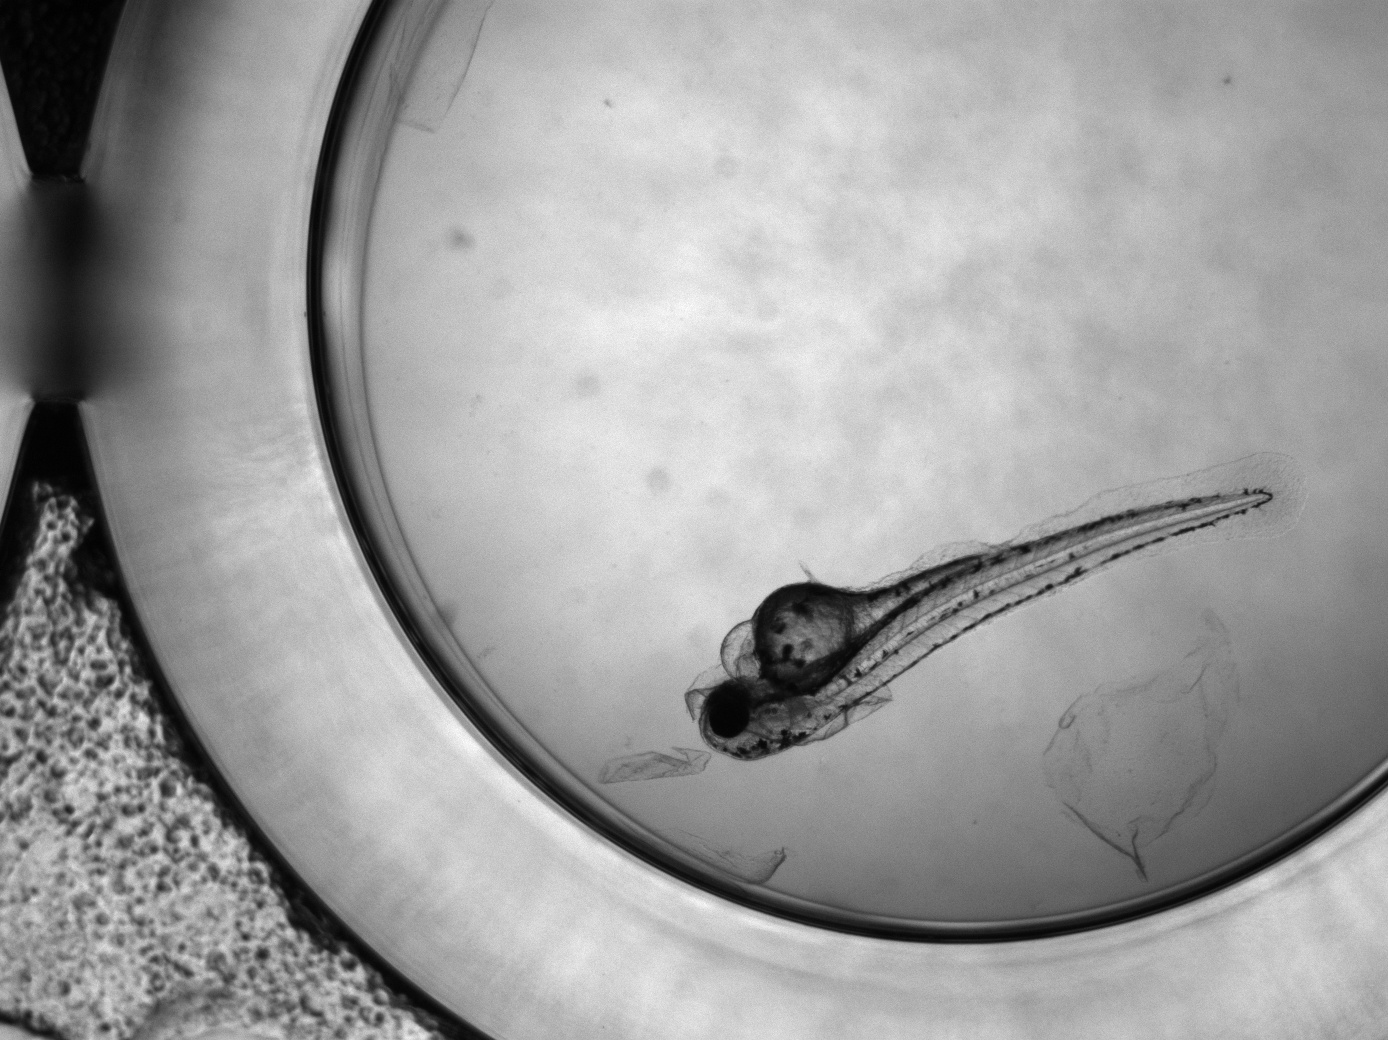debris: (1040, 612, 1239, 885)
embryo: (697, 488, 1273, 763)
eye: (710, 692, 749, 738)
yolksac: (752, 582, 862, 688)
